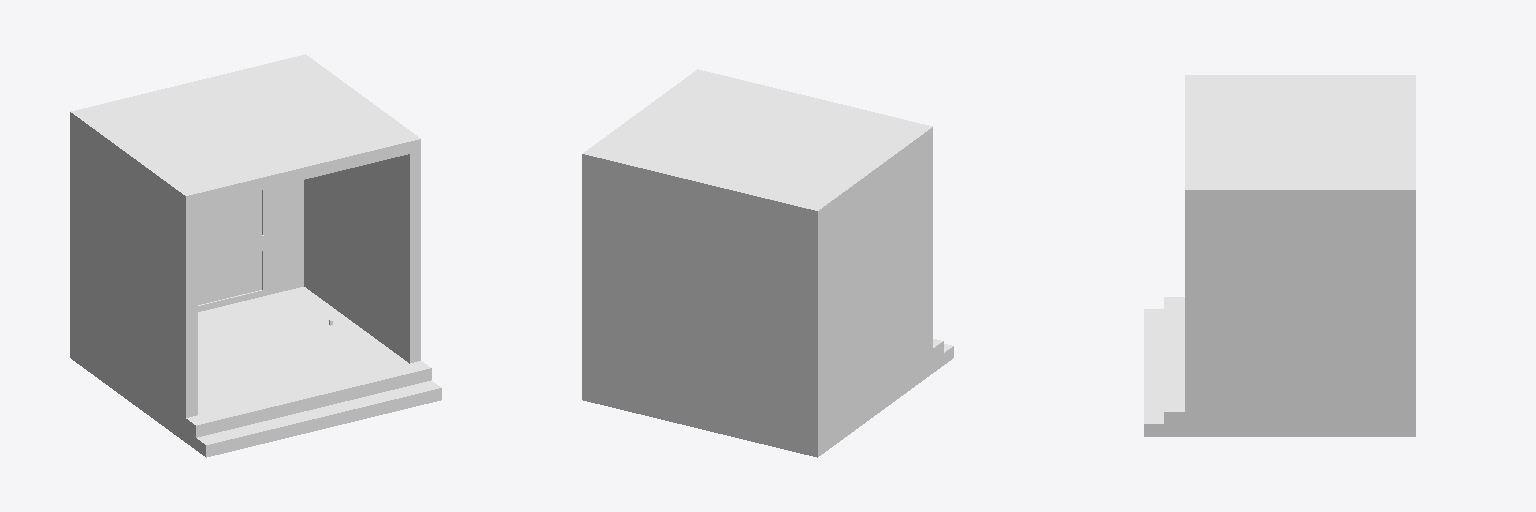
File: entrance3-2-lod1.obj
3 views of the same model, side by side, from view 1: azimuth 30°, elevation 25°; view 2: azimuth 150°, elevation 25°; view 3: azimuth 270°, elevation 25° (orthographic).
Visible parts, largest first — view 1: lod1; view 2: lod1; view 3: lod1.
Part boxes in pixels (x1,y1,x2,y2): lod1: (70,54,441,457); lod1: (582,69,953,457); lod1: (1144,75,1415,436).
Bounding box in the file's own units: 16 × 16 × 16.